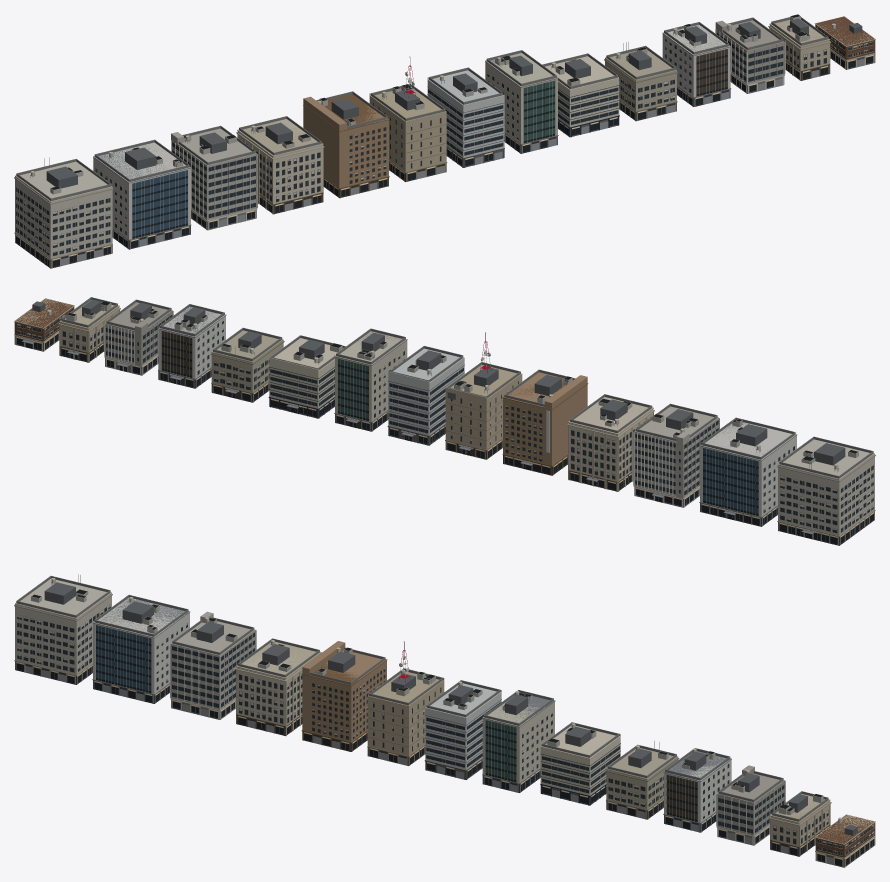
File: civic.glb
3 views of the same model, one above another, from view 1: azimuth 30°, elevation 25°; view 2: azimuth 150°, elevation 25°; view 3: azimuth 330°, elevation 25° (orthographic).
Visible parts, largest first — view 1: civic_m30_body, civic_m30b_body, civic_m24c_body, civic_m24_body, civic_m24b_body, civic_m20b_body, civic_m18_body, civic_m20_body, civic_b24_body, civic_b18_body, civic_b20_body, civic_b18b_body (+2 smaller); view 2: civic_m30_body, civic_m30b_body, civic_m24c_body, civic_m24_body, civic_m24b_body, civic_m20b_body, civic_m18_body, civic_m20_body, civic_b24_body, civic_b18_body, civic_b20_body, civic_b18b_body (+2 smaller); view 3: civic_m30_body, civic_m30b_body, civic_m24c_body, civic_m24_body, civic_m18_body, civic_m24b_body, civic_m20_body, civic_m20b_body, civic_b24_body, civic_b18_body, civic_b18b_body, civic_b20_body (+2 smaller).
Part boxes in pixels (x1=…): civic_m30_body: x1=14, y1=157, x2=113, y2=268; civic_m30b_body: x1=93, y1=139, x2=191, y2=249; civic_m24c_body: x1=303, y1=91, x2=389, y2=198; civic_m24_body: x1=171, y1=125, x2=257, y2=230; civic_m24b_body: x1=236, y1=116, x2=324, y2=214; civic_m20b_body: x1=427, y1=67, x2=504, y2=167; civic_m18_body: x1=485, y1=50, x2=558, y2=153; civic_m20_body: x1=369, y1=56, x2=447, y2=181; civic_b24_body: x1=542, y1=53, x2=619, y2=137; civic_b18_body: x1=662, y1=22, x2=731, y2=106; civic_b20_body: x1=604, y1=42, x2=677, y2=121; civic_b18b_body: x1=715, y1=17, x2=785, y2=93; civic_m30_body: x1=777, y1=436, x2=875, y2=545; civic_m30b_body: x1=699, y1=417, x2=797, y2=526; civic_m24c_body: x1=502, y1=369, x2=588, y2=475; civic_m24_body: x1=633, y1=403, x2=719, y2=507; civic_m24b_body: x1=567, y1=394, x2=654, y2=491; civic_m20b_body: x1=387, y1=346, x2=464, y2=445; civic_m18_body: x1=334, y1=328, x2=407, y2=431; civic_m20_body: x1=445, y1=332, x2=522, y2=459; civic_b24_body: x1=268, y1=335, x2=345, y2=418; civic_b18_body: x1=158, y1=304, x2=226, y2=388; civic_b20_body: x1=210, y1=327, x2=284, y2=402; civic_b18b_body: x1=104, y1=299, x2=173, y2=375; civic_m30_body: x1=14, y1=574, x2=112, y2=684; civic_m30b_body: x1=92, y1=595, x2=190, y2=703; civic_m24c_body: x1=301, y1=641, x2=387, y2=751; civic_m24_body: x1=170, y1=611, x2=256, y2=719; civic_m18_body: x1=482, y1=690, x2=555, y2=792; civic_m24b_body: x1=235, y1=638, x2=321, y2=736; civic_m20_body: x1=367, y1=641, x2=444, y2=765; civic_m20b_body: x1=424, y1=680, x2=501, y2=779; civic_b24_body: x1=540, y1=722, x2=620, y2=805; civic_b18_body: x1=663, y1=748, x2=731, y2=832; civic_b18b_body: x1=716, y1=765, x2=785, y2=845; civic_b20_body: x1=605, y1=741, x2=679, y2=819.
Size of the model in its own units: 403 by 50.4 by 32.15.
